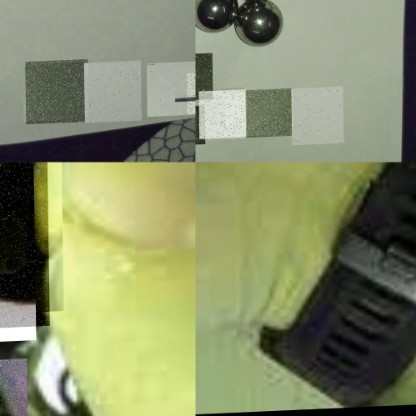ironball: (0, 162, 49, 333), (24, 60, 87, 125), (83, 62, 140, 124), (290, 87, 343, 146), (145, 63, 195, 119), (197, 90, 246, 139), (244, 89, 293, 138), (233, 0, 284, 46), (193, 0, 233, 36), (195, 53, 212, 100), (185, 75, 195, 116), (195, 105, 204, 145)
